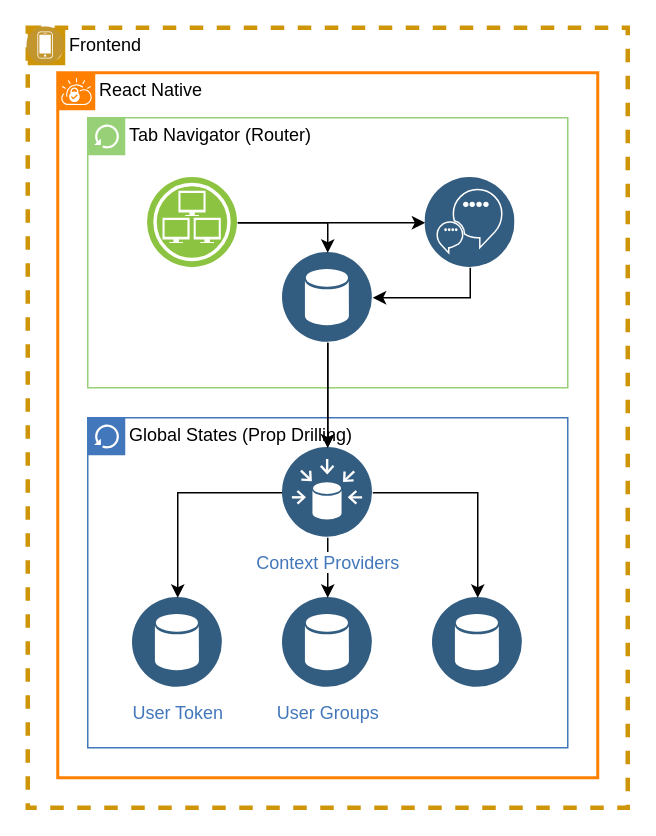
The diagram is 656 pixels wide and 836 high, and some of its shapes have lost their labels. The shapes that lost their labels are listed below. From the top down, each one's centre as x and y in pixels, then its label:
At (x=192, y=222): "App Pages".
At (x=469, y=222): "API Calls".
At (x=327, y=297): "Page States".
At (x=477, y=642): "User Info".
